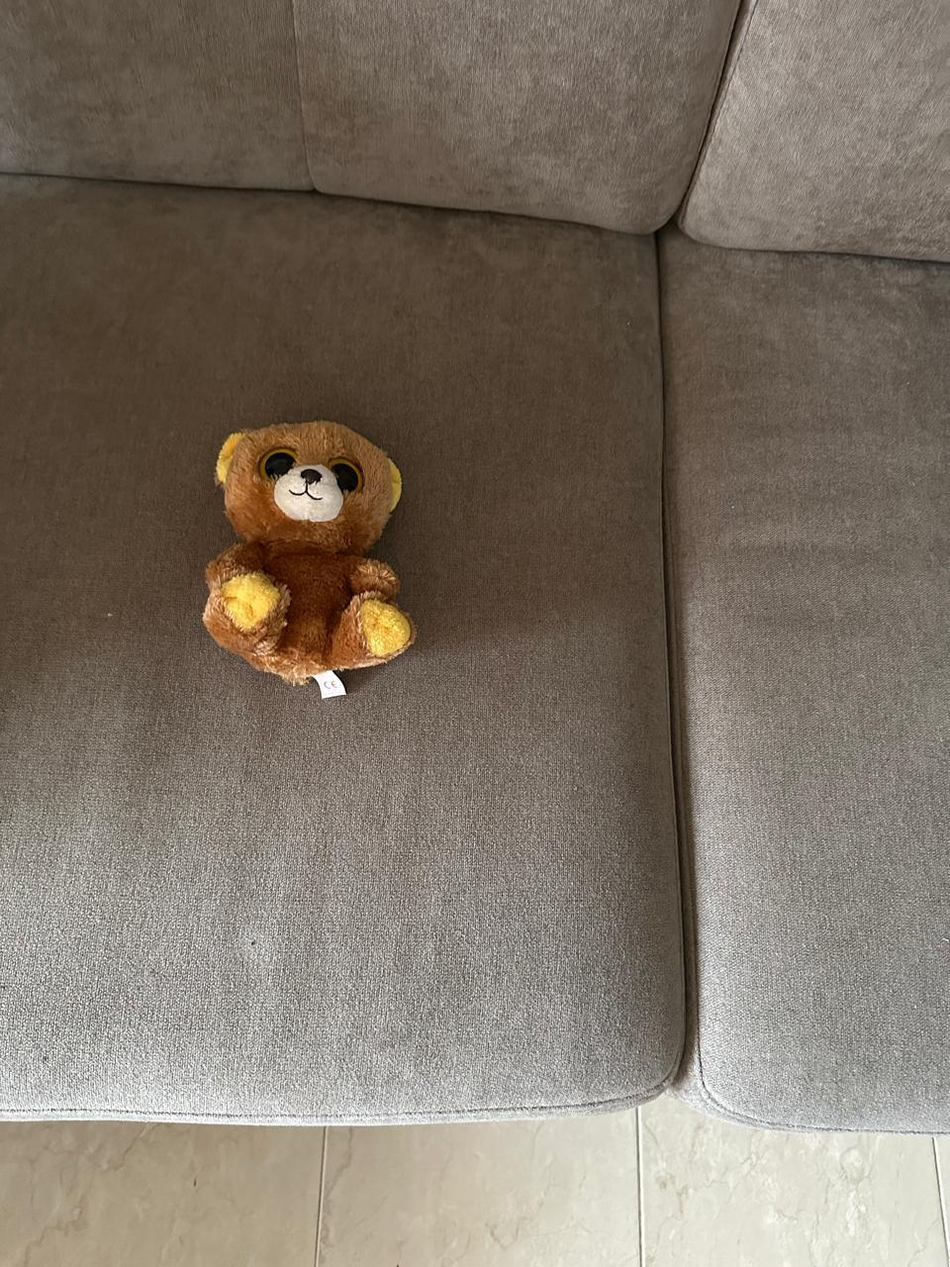peluche_sebastian: (203, 418, 408, 693)
